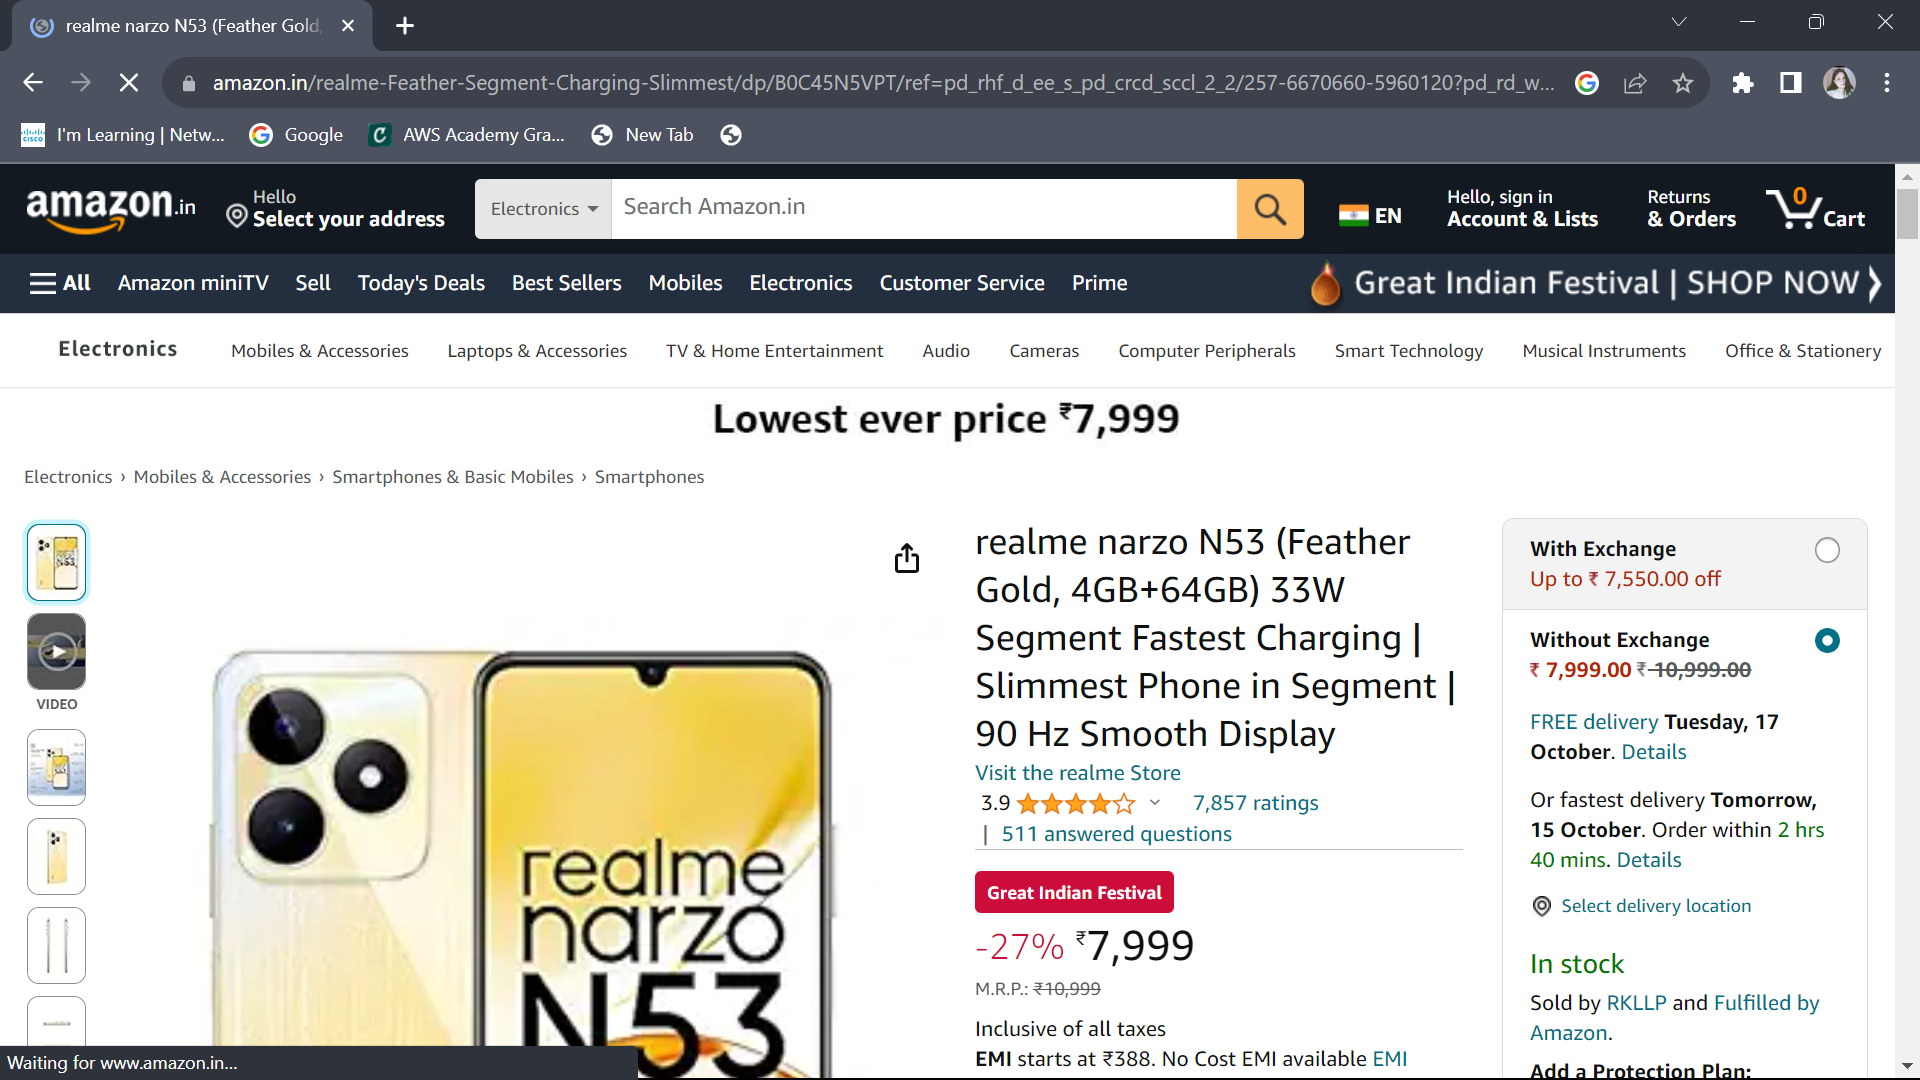Image: (179, 588, 845, 1080)
Paragraph: (976, 526, 1469, 761), (42, 335, 1887, 371), (1502, 609, 1812, 782), (949, 872, 1207, 1013), (964, 770, 1374, 855), (1511, 782, 1845, 884), (1523, 961, 1849, 1060), (692, 400, 1195, 460), (1499, 513, 1851, 595), (949, 1027, 1422, 1080), (1526, 887, 1792, 944), (1544, 932, 1759, 935)
